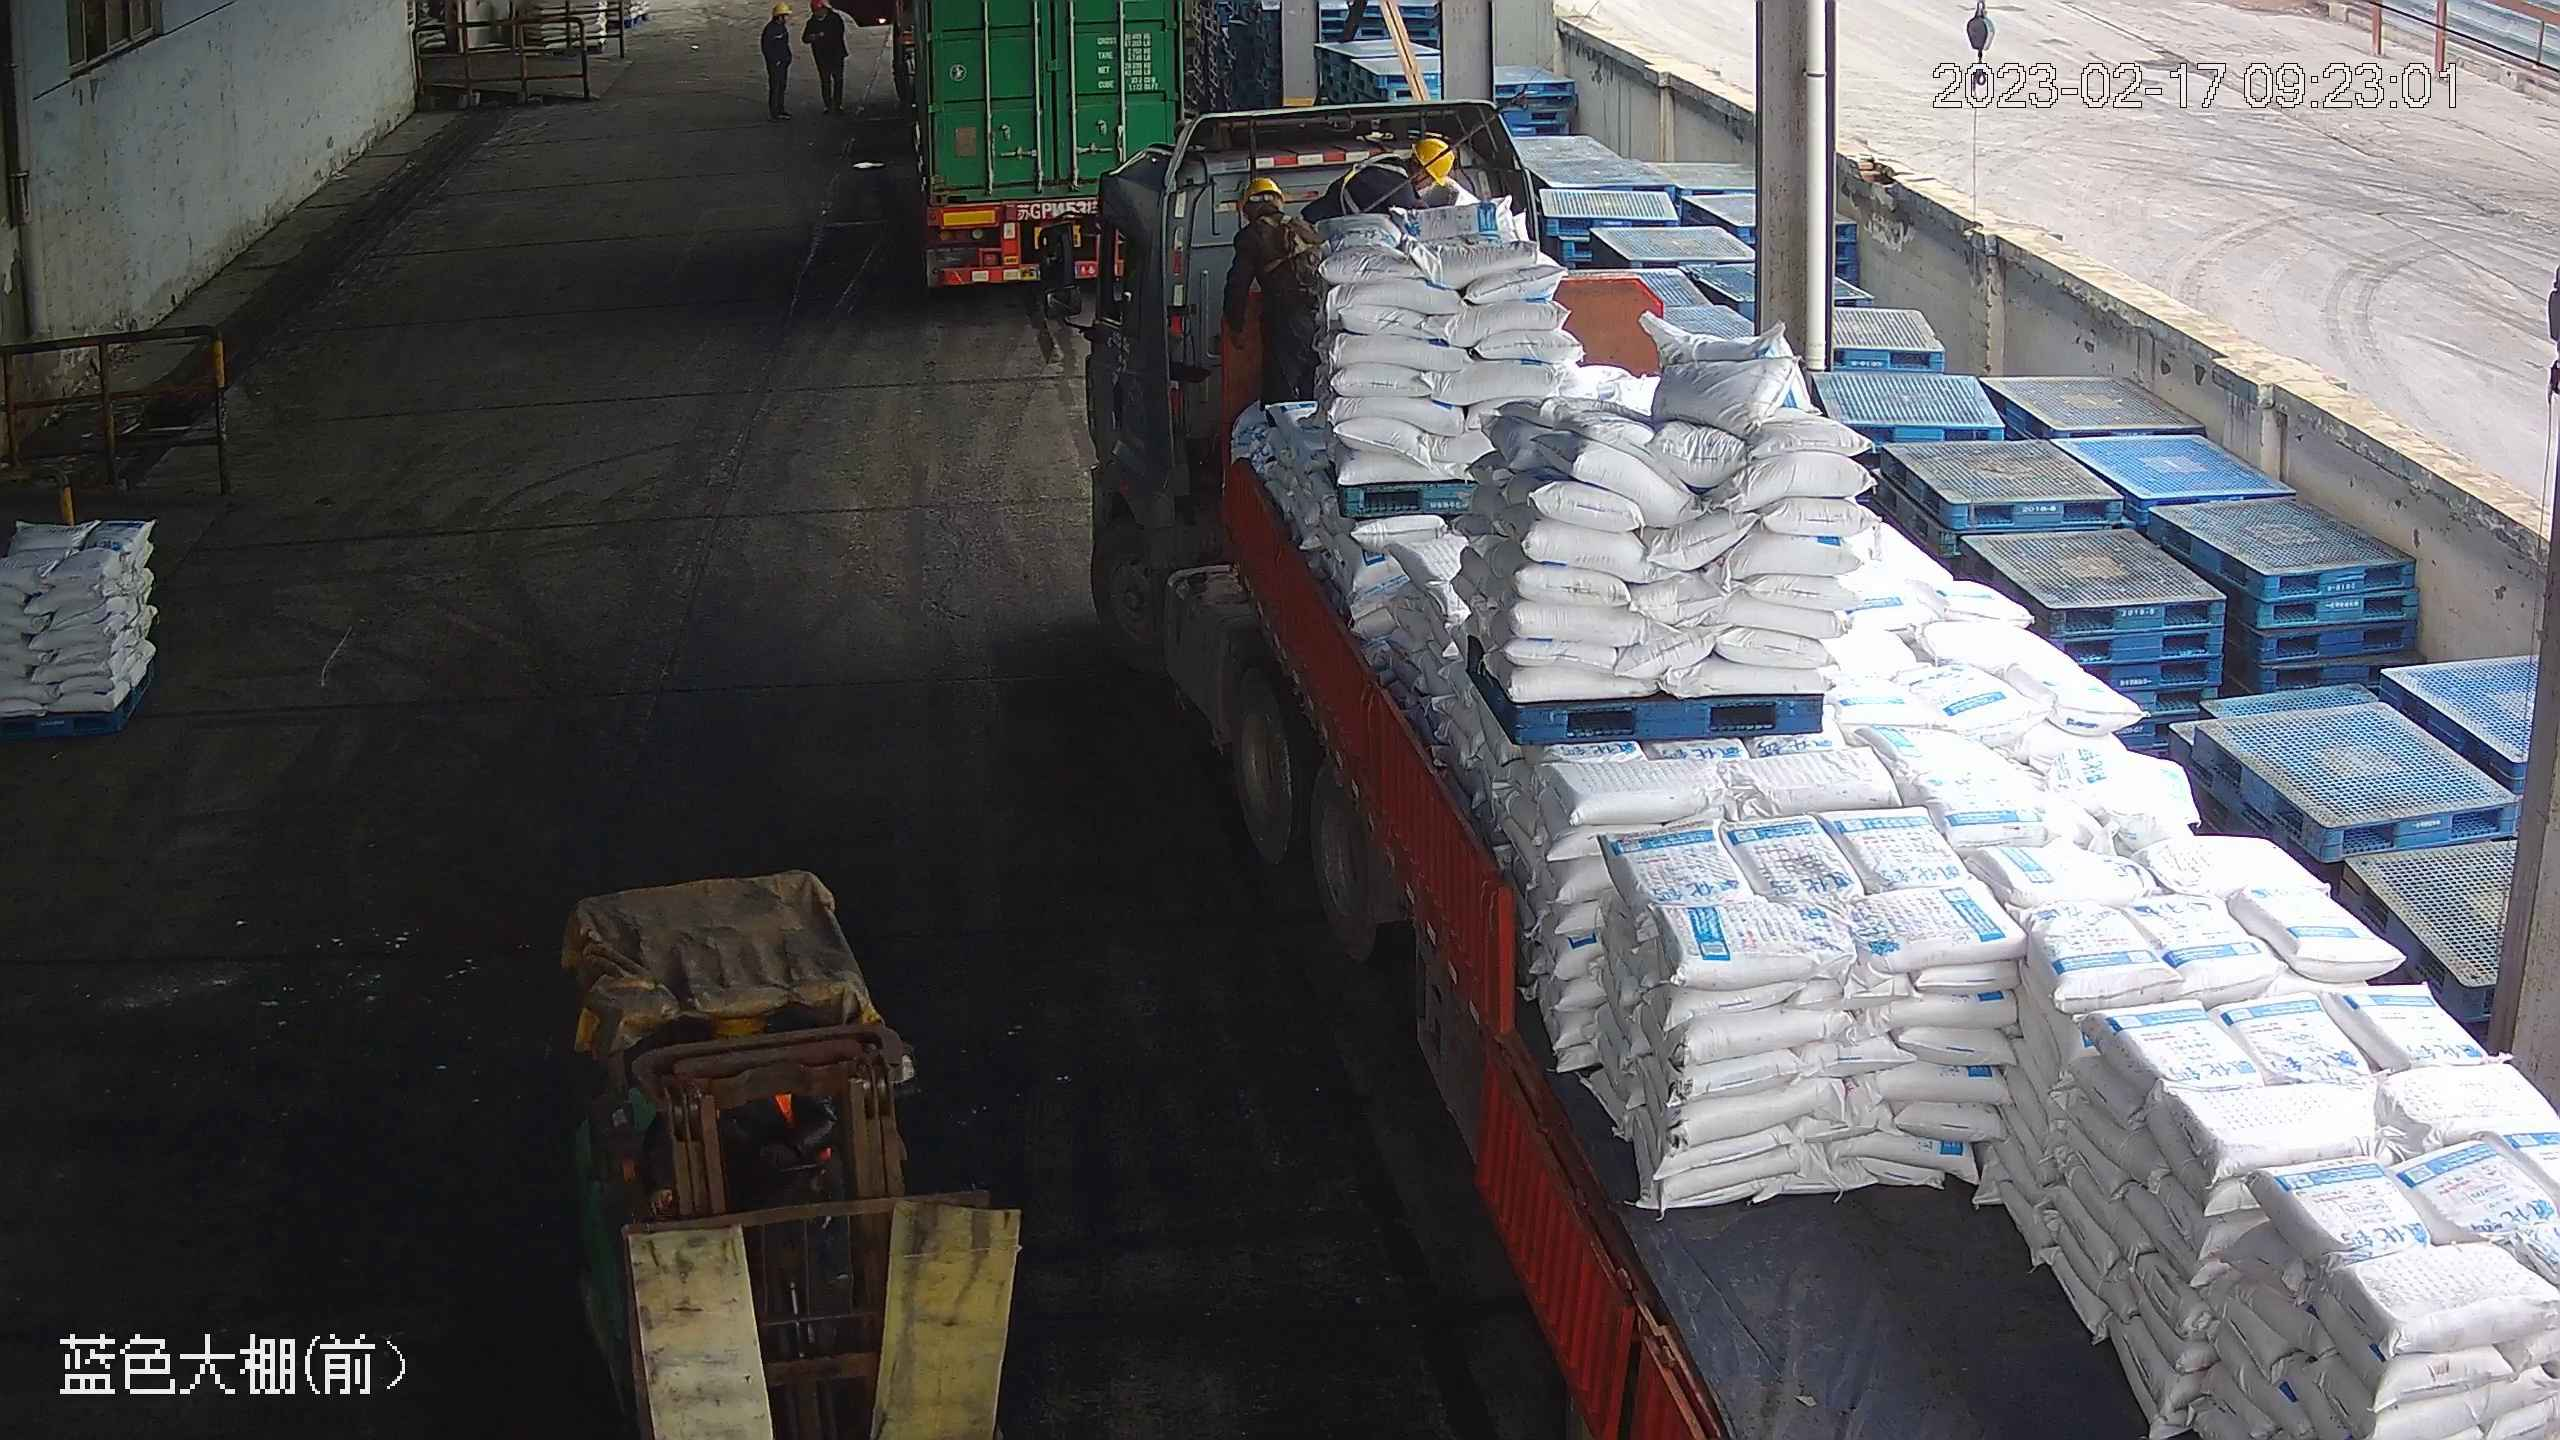belt: (1338, 153, 1410, 214), (1249, 213, 1313, 273)
head: (1229, 174, 1317, 251), (1381, 137, 1454, 209)
helmet: (1411, 137, 1454, 186), (1244, 177, 1284, 216)
people: (1220, 174, 1324, 410)
truck: (1082, 97, 2560, 1440)
